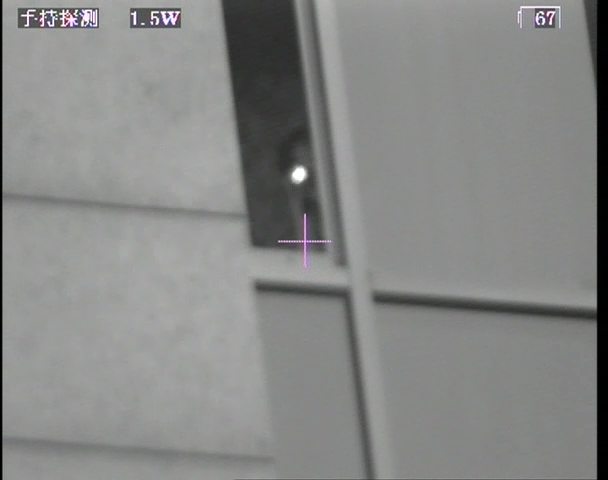my: (289, 164, 308, 185)
